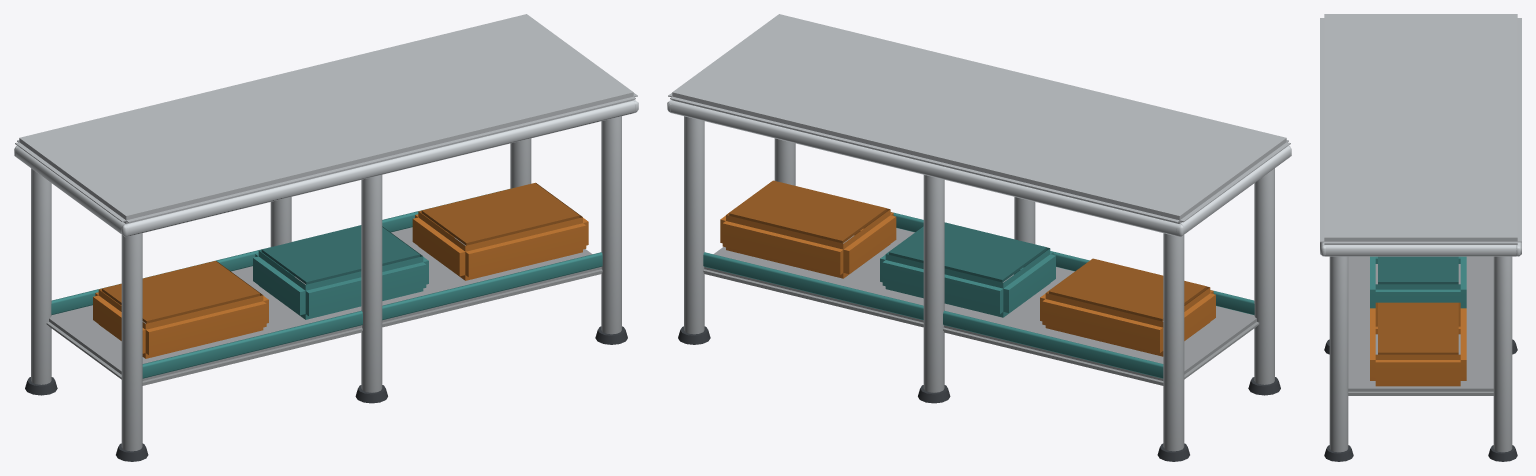
The model's file is SM_WorkTable_20.glb.
3 views of the same model, side by side, from view 1: azimuth 30°, elevation 25°; view 2: azimuth 150°, elevation 25°; view 3: azimuth 270°, elevation 25° (orthographic). The views are drawn at different scales.
Parts seen in each view (by area): view 1: SM_WorkTable_20; view 2: SM_WorkTable_20; view 3: SM_WorkTable_20.
Part boxes in pixels (x1,y1,x2,y2): SM_WorkTable_20: (14,14,638,461); SM_WorkTable_20: (667,14,1291,461); SM_WorkTable_20: (1320,14,1521,461).
Size of the model in its own units: 2 by 0.92 by 0.75.
Materials: 1 (1 with a texture image).
